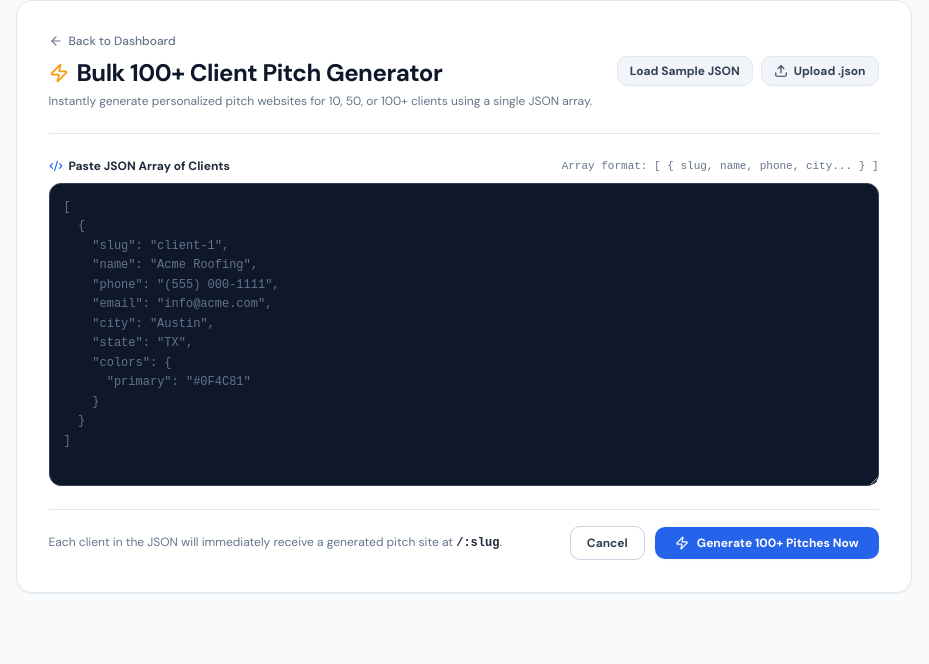
Test: BulkCreator Component › shows error when generate is clicked with empty textarea
Click the button "Generate 100+ Pitches Now".
click(767, 542)  # box [655, 526, 878, 558]
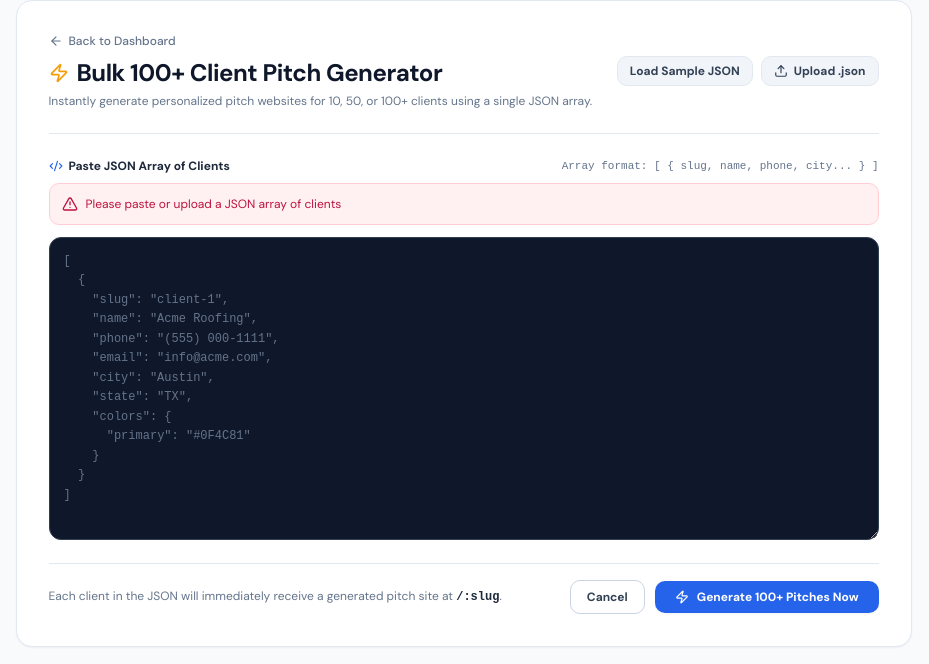
Now the text "Please paste or upload a JSON array of clients" is shown, box [86, 196, 341, 212]
